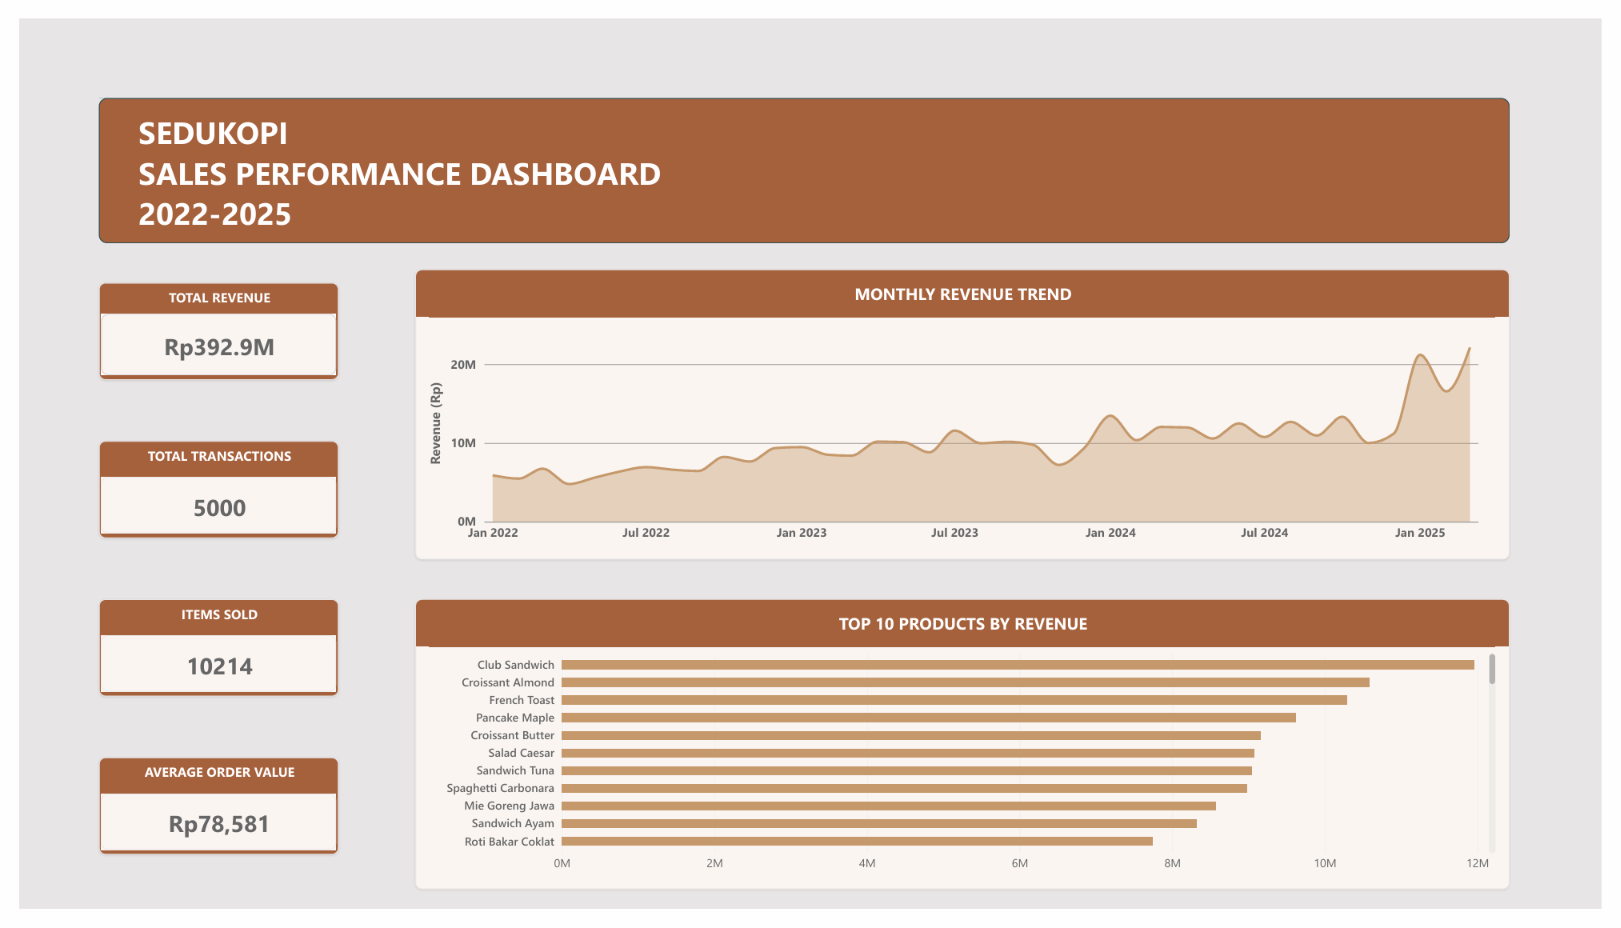

Layout of this report page (visuals, bound fields, positions):
{"tool":"powerbi","page":{"name":"Page 1","canvas":[1920,1080],"ordinal":0},"visuals":[{"type":"cardVisual","title":"TOTAL REVENUE","fields":{"Data":["Sum(vw_sales_detail.subtotal)"]},"box":[96,320,291,118],"z":0},{"type":"cardVisual","title":"TOTAL TRANSACTIONS","fields":{"Data":["Count(vw_sales_detail.order_id)"]},"box":[96,512,291,118],"z":1000},{"type":"cardVisual","title":"ITEMS SOLD","fields":{"Data":["Sum(vw_sales_detail.quantity)"]},"box":[96,704,291,118],"z":2000},{"type":"cardVisual","title":"AVERAGE ORDER VALUE","fields":{"Data":["Query1.Average Order Value"]},"box":[96,896,291,118],"z":3000},{"type":"lineChart","title":"MONTHLY REVENUE TREND","fields":{"Category":["vw_sales_detail.order_date.Variation.Date Hierarchy.Year","vw_sales_detail.order_date.Variation.Date Hierarchy.Quarter","vw_sales_detail.order_date.Variation.Date Hierarchy.Month"],"Y":["Sum(vw_sales_detail.subtotal)"]},"box":[480,304,1328,352],"z":4000},{"type":"clusteredBarChart","title":"TOP 10 PRODUCTS BY REVENUE","fields":{"Category":["vw_sales_detail.product_name"],"Y":["Sum(vw_sales_detail.subtotal)"]},"box":[480,704,1328,352],"z":5000},{"type":"shape","box":[96,96,1712,176],"z":6000},{"type":"textbox","box":[144,112,1616,160],"z":7000}]}

Visuals, with their boxes in screenshot pixels (x1, y1, x2, y2), scaled from the page's 1920x1080 canvas onto the 1621x928 screenshot:
"TOTAL REVENUE" cardVisual: Rect(81, 275, 327, 376)
"TOTAL TRANSACTIONS" cardVisual: Rect(81, 440, 327, 541)
"ITEMS SOLD" cardVisual: Rect(81, 605, 327, 706)
"AVERAGE ORDER VALUE" cardVisual: Rect(81, 770, 327, 871)
"MONTHLY REVENUE TREND" lineChart: Rect(405, 261, 1526, 564)
"TOP 10 PRODUCTS BY REVENUE" clusteredBarChart: Rect(405, 605, 1526, 907)
shape: Rect(81, 82, 1526, 234)
textbox: Rect(122, 96, 1486, 234)
